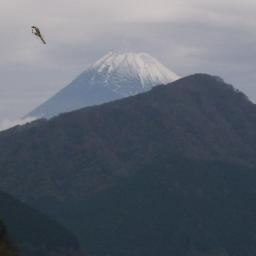Cuckoo: (31, 26, 46, 44)
